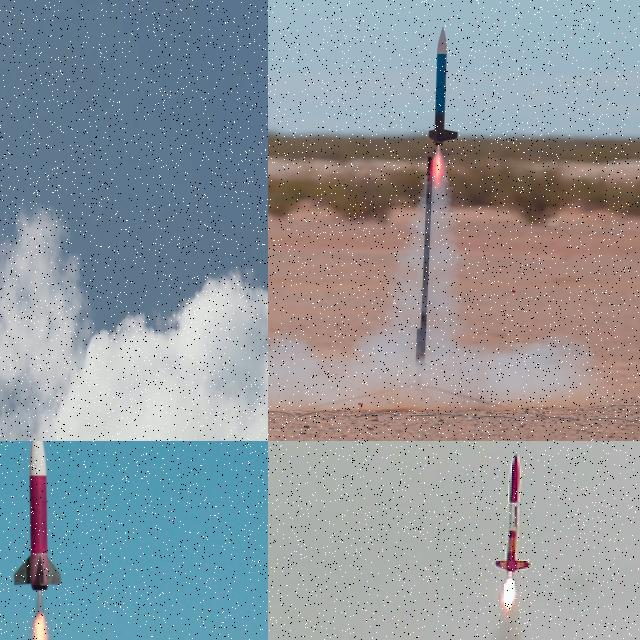Rocket: (12, 441, 62, 591), (493, 452, 531, 574), (428, 26, 459, 147), (31, 386, 34, 395)
